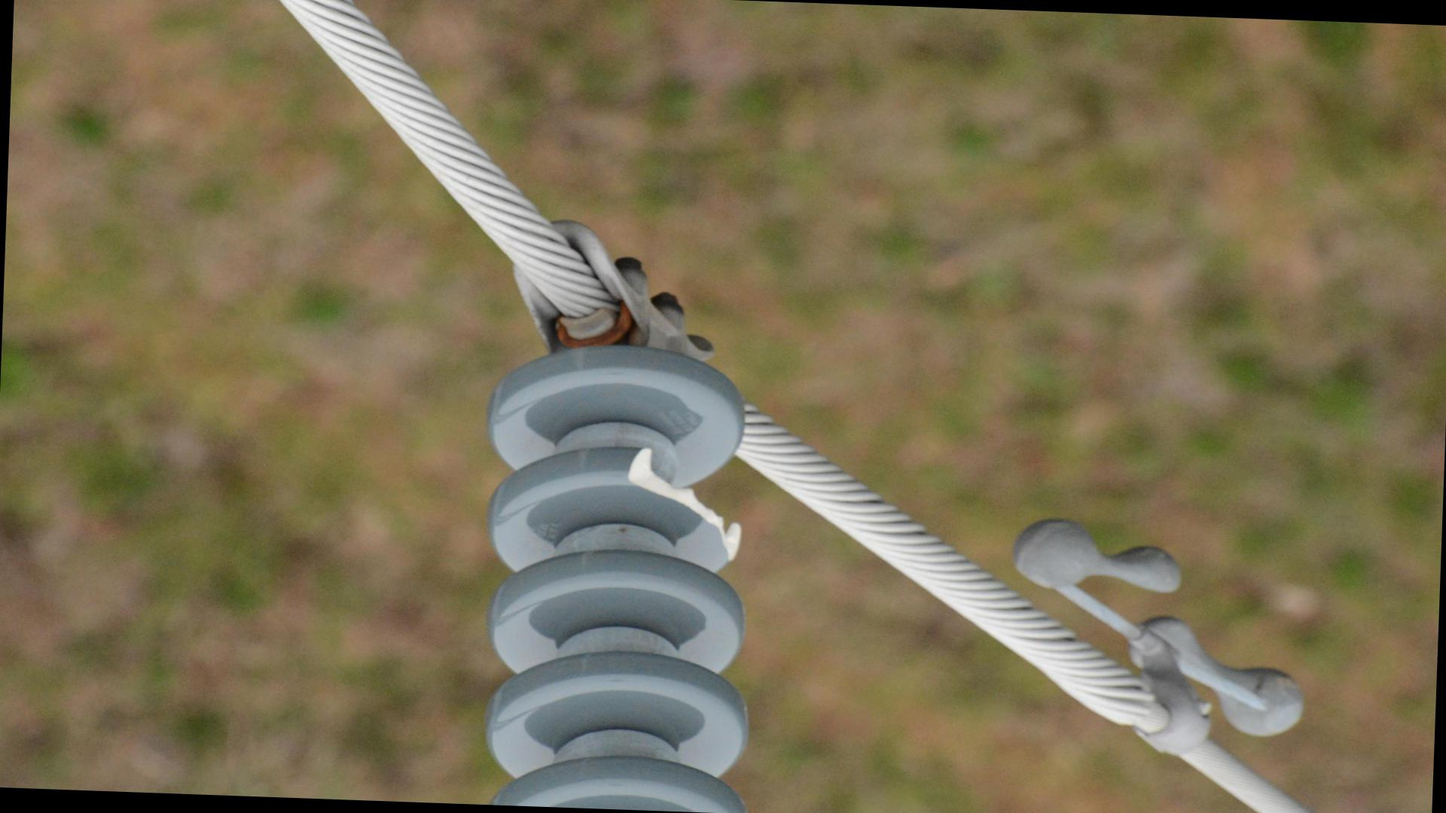damper: (998, 508, 1317, 768)
